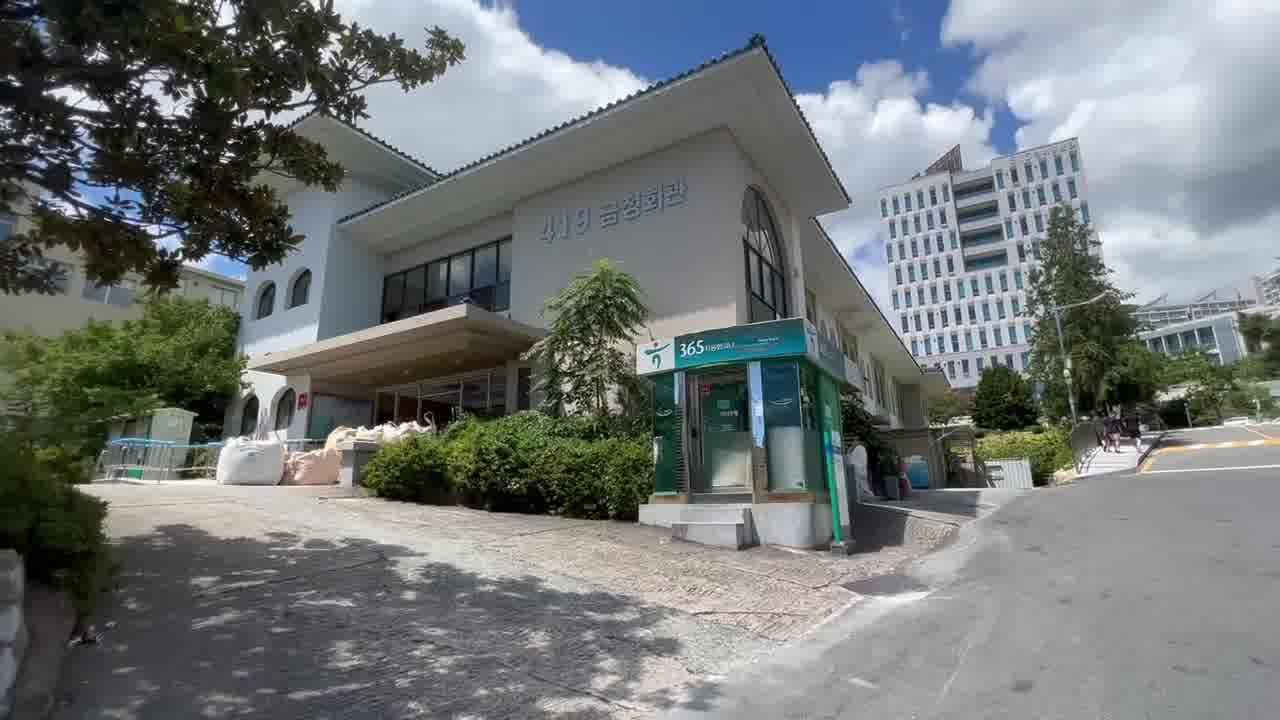building: (363, 72, 889, 374)
